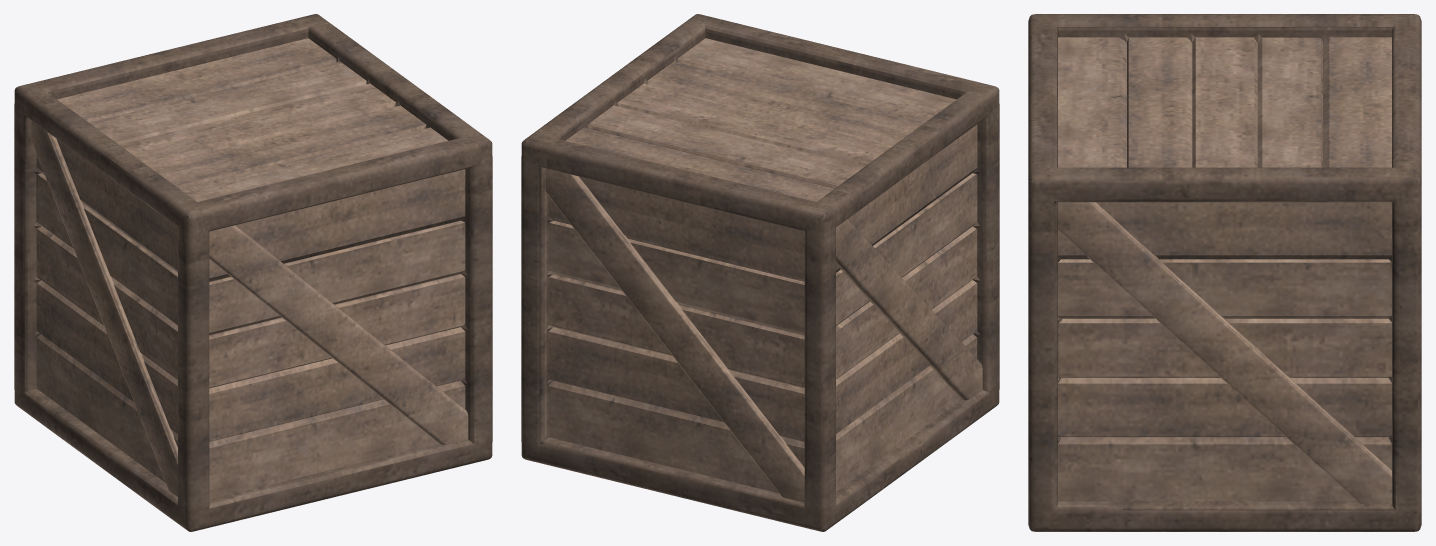
Rendered from isocam.glb.
3 renders of one model, left to right at view 1: azimuth 30°, elevation 25°; view 2: azimuth 150°, elevation 25°; view 3: azimuth 270°, elevation 25°, orthographic. The views are drawn at different scales.
Visible parts, largest first — view 1: Mesh_0; view 2: Mesh_0; view 3: Mesh_0.
Boxes of the visible parts, x1,y1,x2,y2 form: Mesh_0: (14,14,492,531); Mesh_0: (521,14,999,531); Mesh_0: (1028,14,1421,531).
Size of the model in its own units: 2 by 2 by 2.
Materials: 1 (1 with a texture image).
